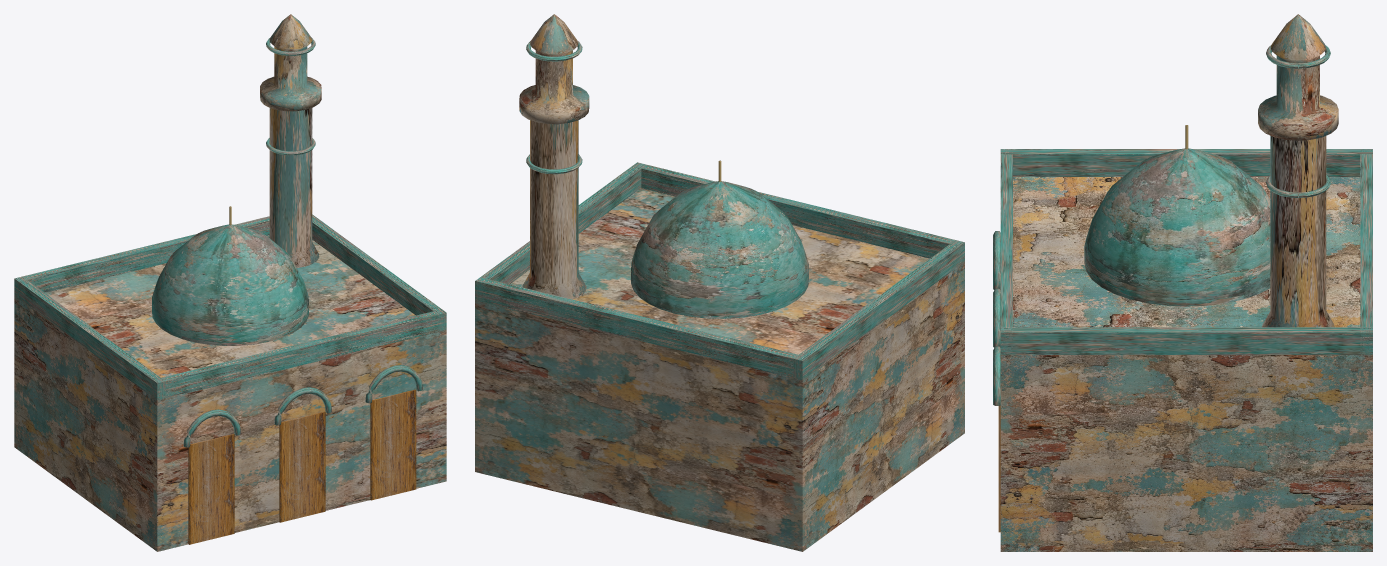
File: bld_mosque.glb
3 renders of one model, left to right at view 1: azimuth 30°, elevation 25°; view 2: azimuth 150°, elevation 25°; view 3: azimuth 270°, elevation 25°, orthographic. The views are drawn at different scales.
Parts seen in each view (by area): view 1: bld_mosque; view 2: bld_mosque; view 3: bld_mosque.
Part boxes in pixels (x1,y1,x2,y2): bld_mosque: (14, 14, 446, 551); bld_mosque: (475, 14, 964, 551); bld_mosque: (993, 14, 1372, 551).
Size of the model in its own units: 7 by 9.1 by 6.12.
4 materials, 3 textured.
